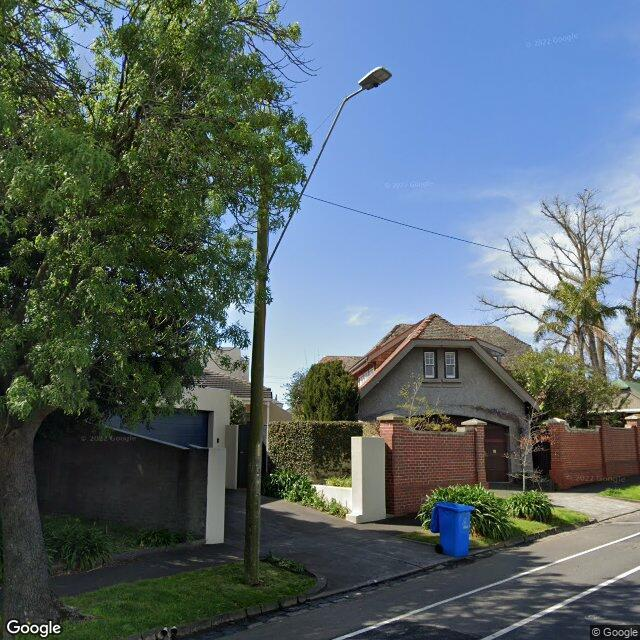streetlight: (265, 66, 393, 272)
timber-pole: (244, 181, 271, 585)
